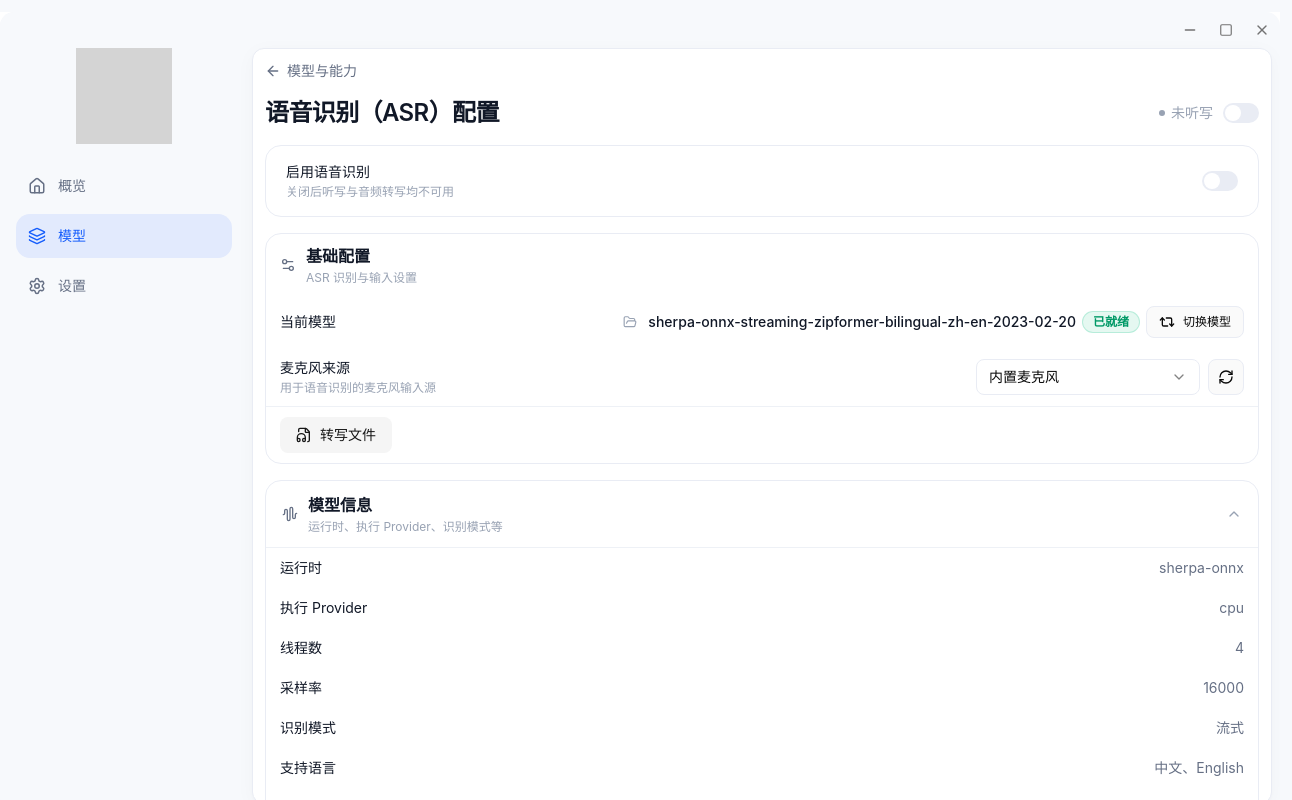
it: AsrPage（语音识别配置） › 切换页面后 ASR runtime 状态不丢失，返回 /models 正常
Expected: the text "未听写" is shown, [1159,103,1213,123]
Click the link "模型与能力" at (311, 71), box [265,61,357,81]
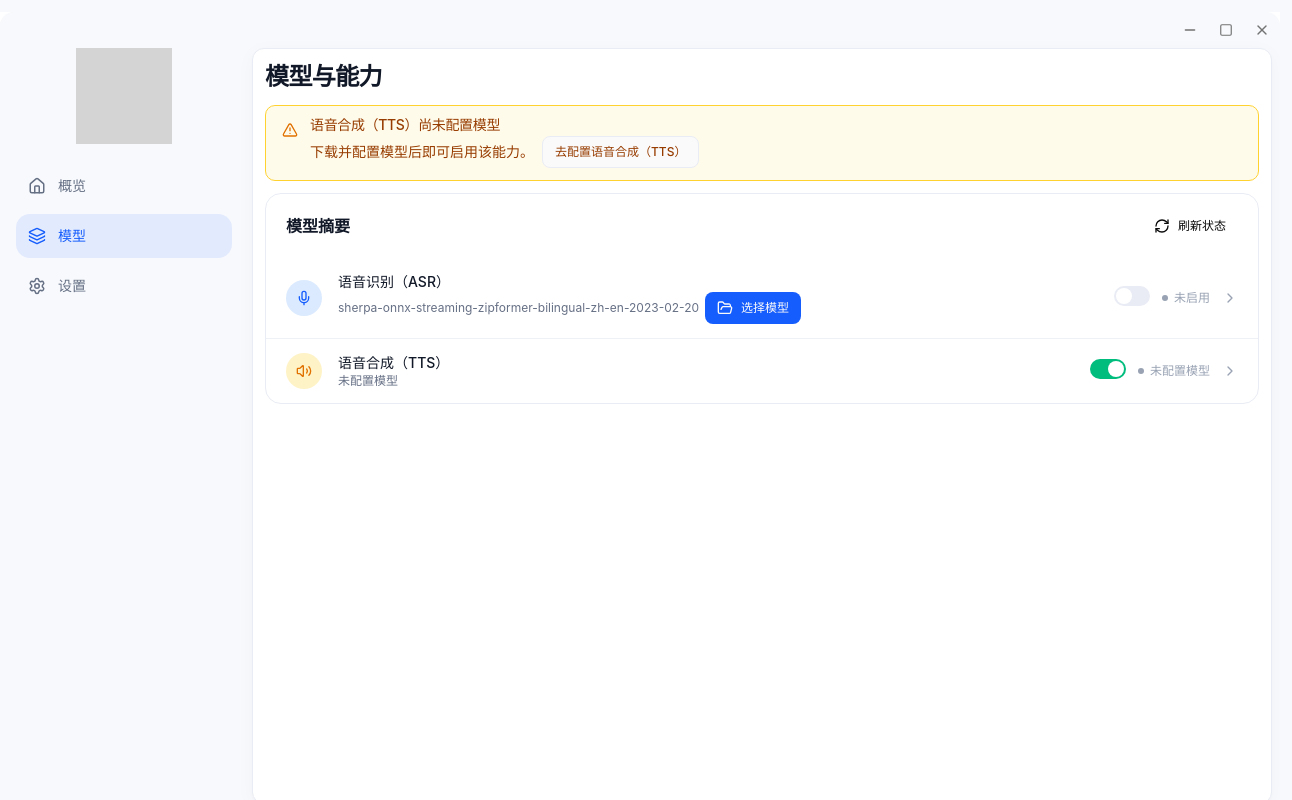
Expected: the heading "模型摘要" is shown, [286,214,350,238]
Note: 切回 ASR 页：记忆设备仍在
Click the link with aria-label "配置语音识别（ASR）" at (762, 298), box [266,258,1258,339]
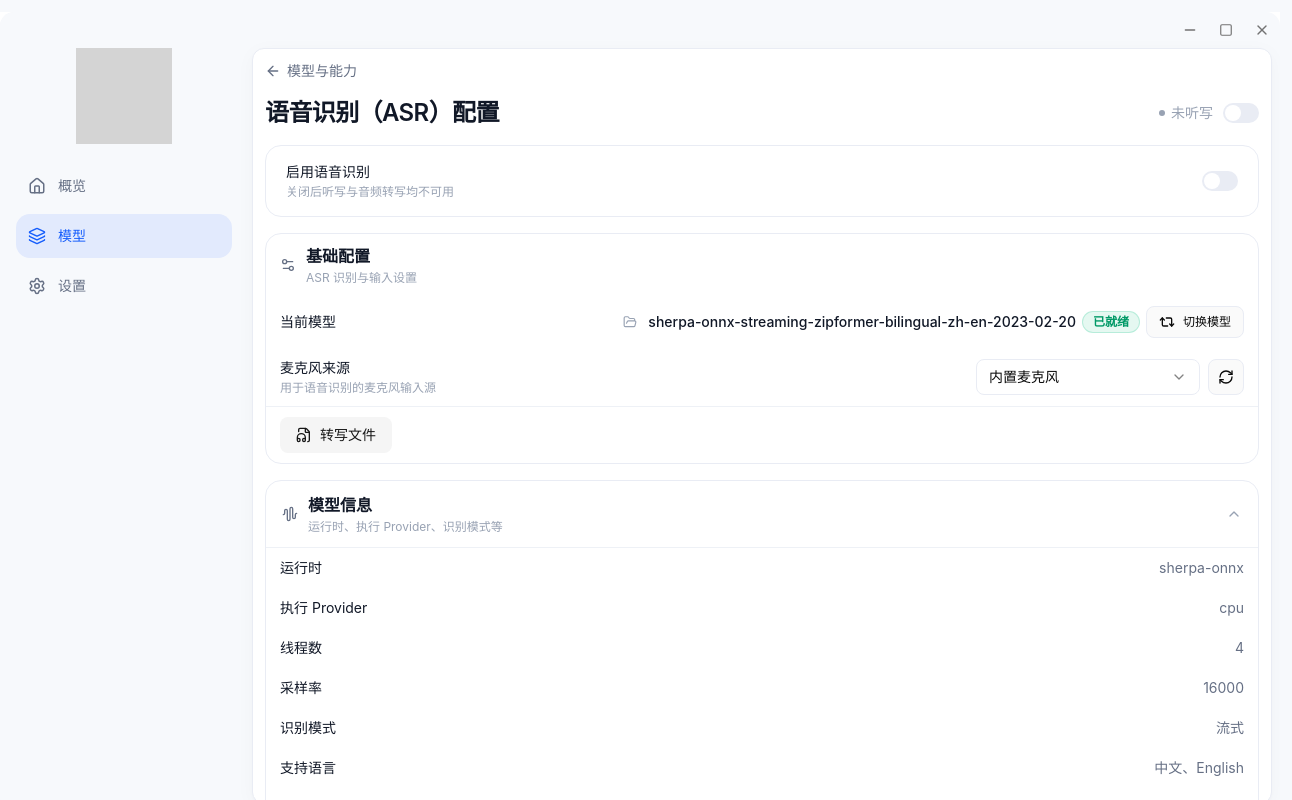
Expected: the heading "语音识别（ASR）配置" is shown, [265,97,499,129]
Expected: the dropdown named "麦克风来源" reads "内置麦克风", [976,359,1200,395]
